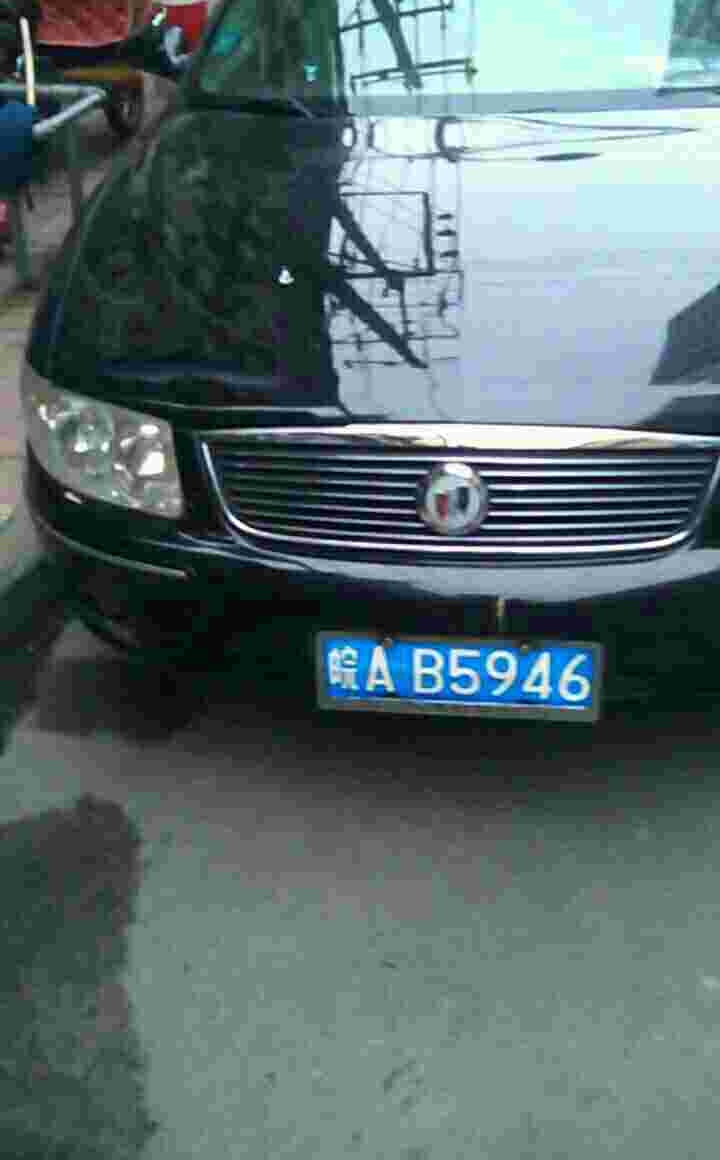plate: (320, 629, 605, 715)
